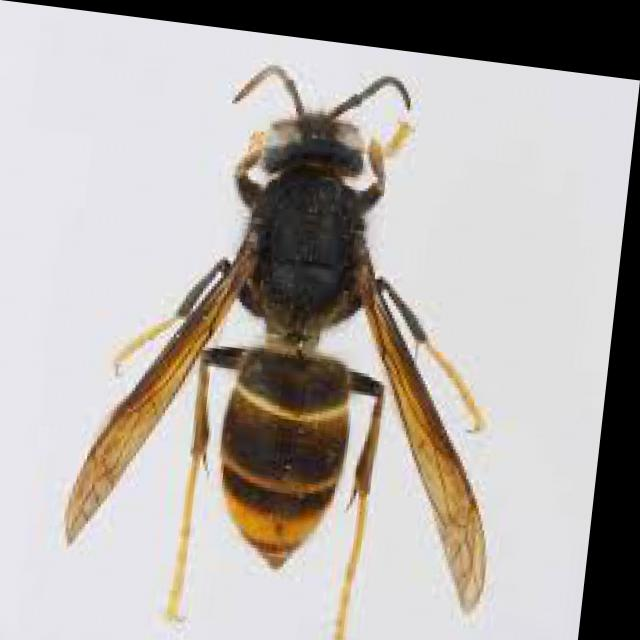Vespa Velutina: (48, 28, 546, 639)
